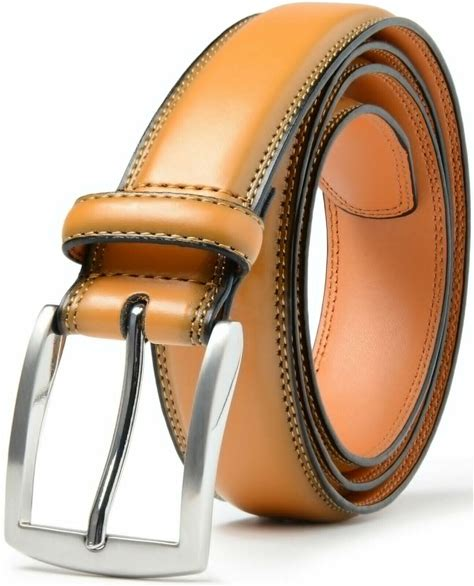cuero: (60, 3, 469, 521)
